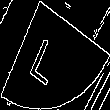L_NE: (36, 25, 74, 85)
